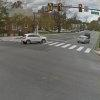Crosswalk: (46, 33, 91, 58)
